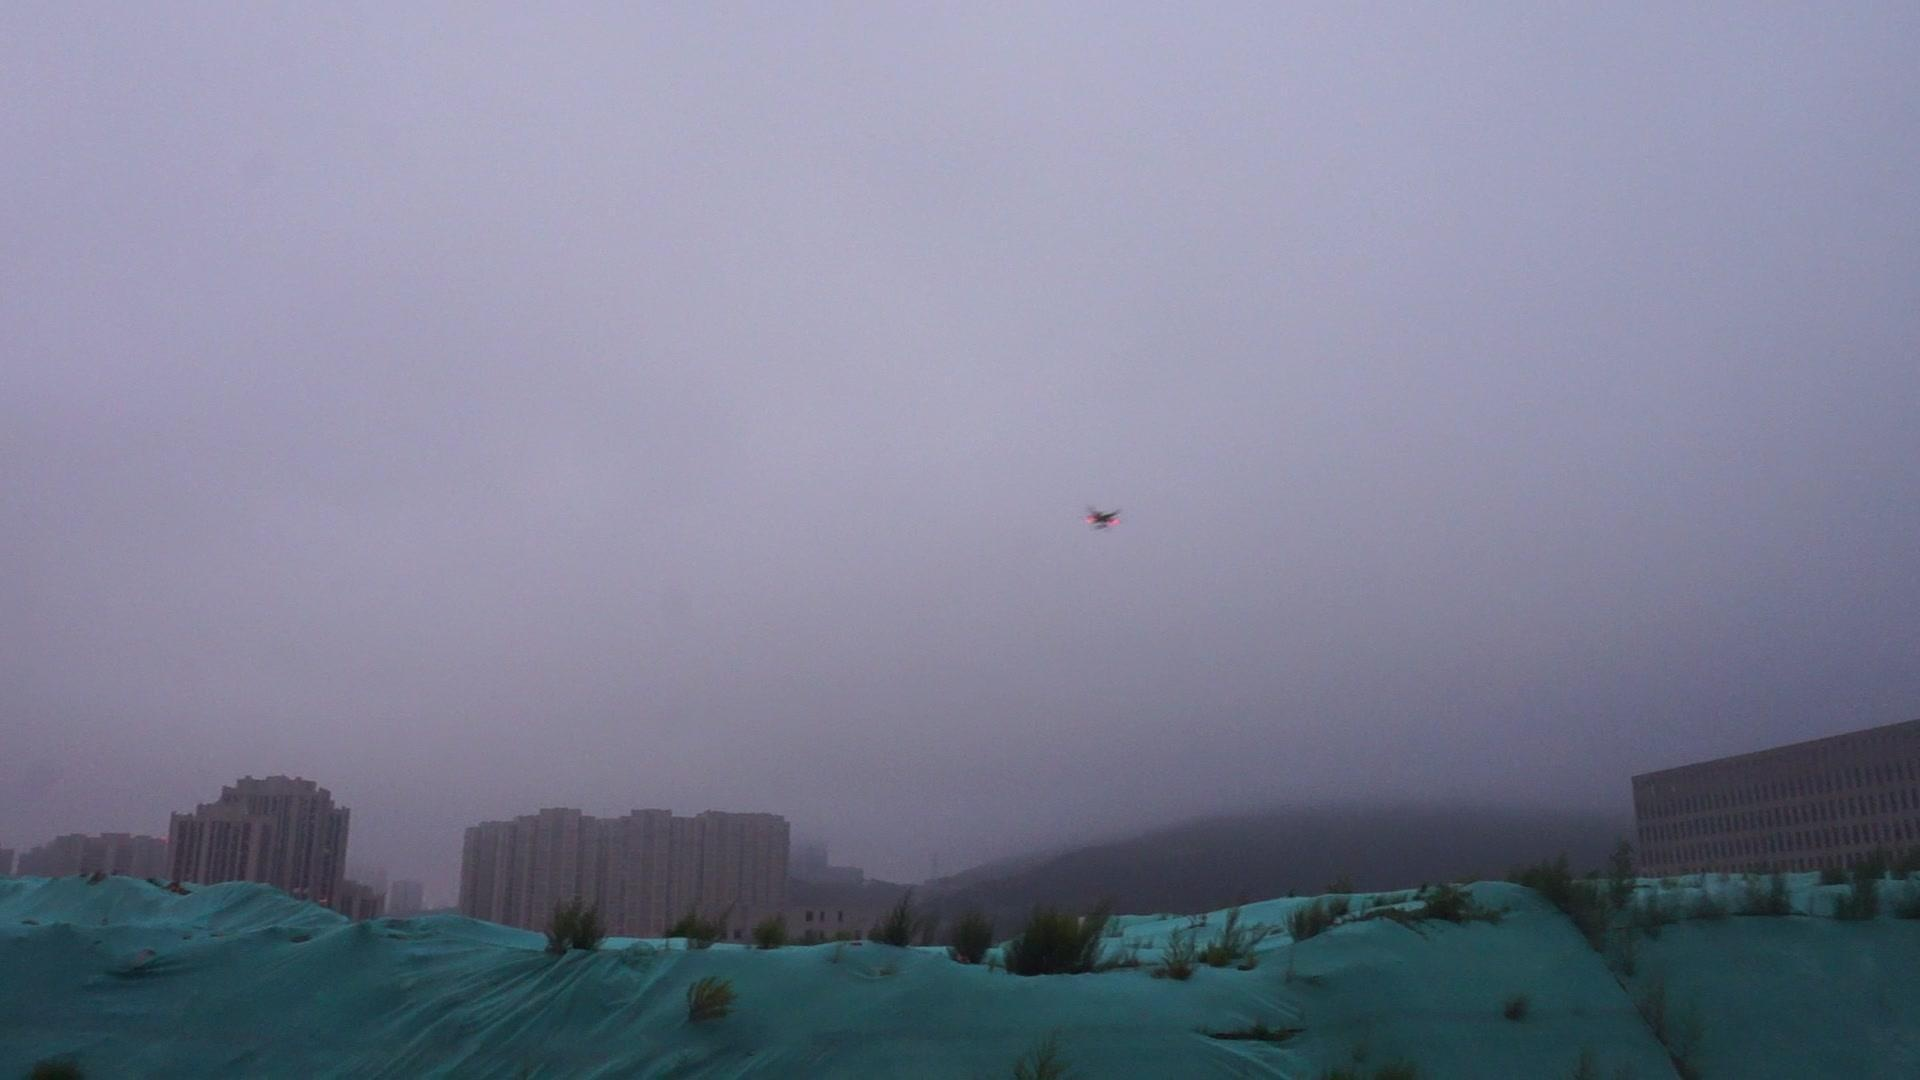UAV: (1083, 508, 1124, 531)
